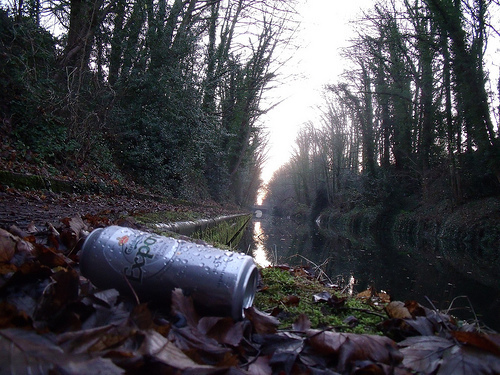litter: (78, 224, 260, 322)
